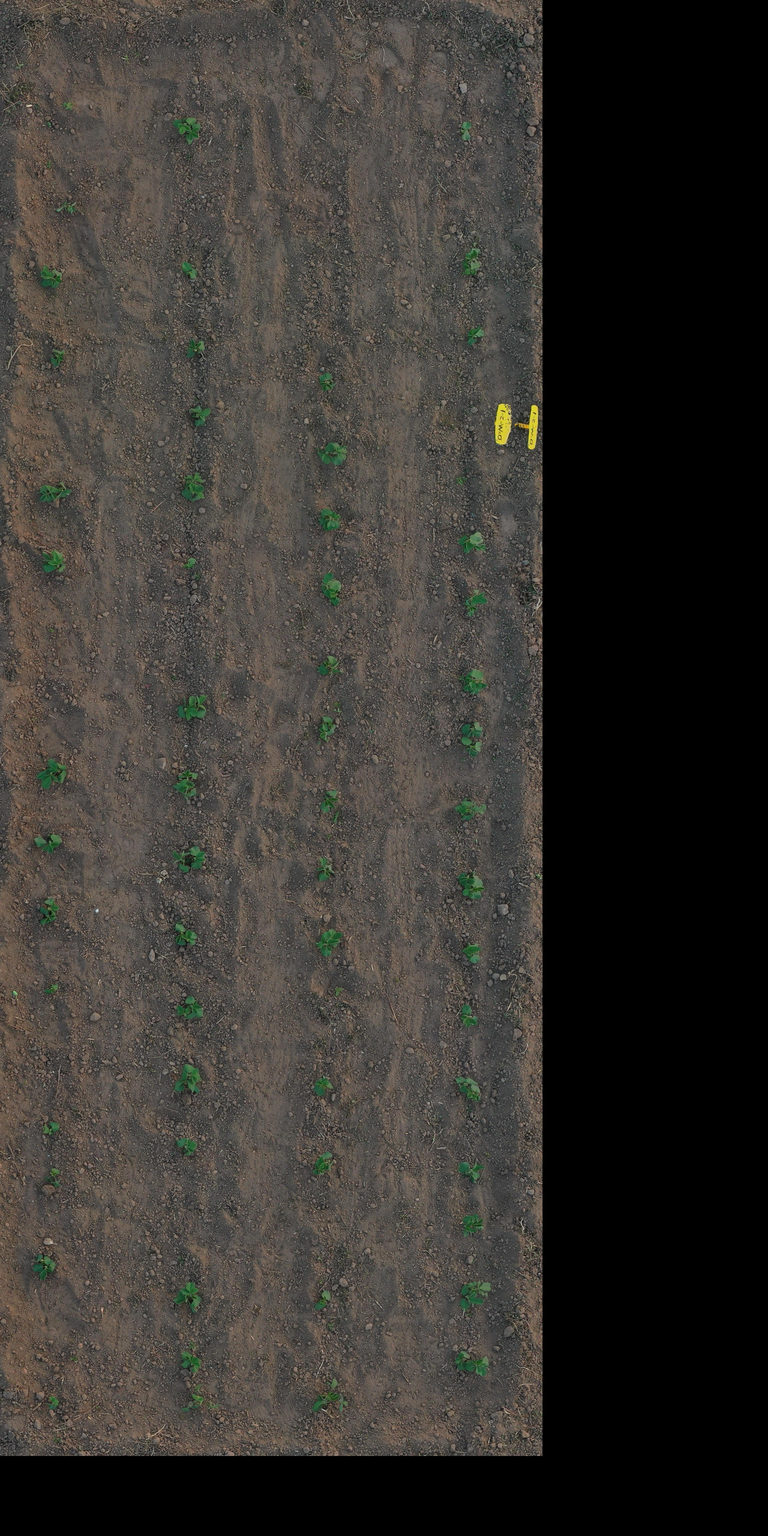s: (181, 1383, 220, 1412), (326, 1378, 348, 1412), (174, 1068, 200, 1094), (317, 655, 344, 679), (458, 1161, 486, 1184), (459, 1284, 484, 1309), (462, 875, 486, 900), (179, 1282, 202, 1308), (172, 1290, 198, 1313), (34, 834, 63, 854), (315, 935, 341, 957), (177, 696, 199, 721), (42, 551, 66, 573), (46, 758, 67, 783), (454, 797, 475, 822), (464, 1356, 489, 1377), (180, 483, 205, 503), (469, 668, 488, 694), (189, 405, 211, 427), (188, 694, 208, 718), (173, 782, 197, 802), (32, 1260, 56, 1280), (320, 789, 339, 814), (461, 736, 483, 757), (36, 769, 58, 790), (180, 1063, 202, 1084), (316, 858, 335, 882), (321, 928, 343, 948), (462, 248, 481, 271), (172, 850, 191, 873), (185, 995, 204, 1018), (172, 117, 197, 134), (463, 589, 488, 606), (38, 484, 60, 503), (176, 1137, 198, 1156), (320, 572, 336, 598), (330, 442, 348, 465), (466, 323, 484, 346), (318, 508, 336, 531), (460, 1004, 478, 1027), (455, 1076, 478, 1094), (467, 1280, 491, 1297), (186, 338, 206, 358), (312, 1078, 333, 1097), (40, 270, 62, 288), (40, 264, 62, 282), (183, 472, 205, 490), (328, 579, 342, 607), (461, 721, 484, 738), (189, 846, 206, 869), (318, 372, 337, 392), (178, 769, 198, 788), (317, 442, 334, 464), (44, 1168, 62, 1188), (186, 122, 201, 145), (462, 1214, 477, 1237), (314, 1290, 331, 1310), (454, 1350, 470, 1371), (312, 1394, 330, 1412), (40, 906, 57, 925), (457, 869, 476, 886), (312, 1156, 329, 1175), (458, 535, 474, 555), (470, 532, 486, 552), (463, 672, 479, 692), (176, 1004, 196, 1020), (319, 1150, 334, 1171), (56, 200, 78, 214), (55, 481, 72, 499), (50, 349, 66, 368), (463, 259, 482, 275), (44, 897, 60, 916), (182, 261, 198, 279), (318, 722, 332, 742), (174, 923, 186, 946), (462, 942, 483, 955), (182, 929, 198, 946), (322, 715, 336, 734), (467, 1084, 481, 1103), (465, 802, 487, 814), (459, 121, 472, 141), (188, 1355, 202, 1373), (46, 1395, 62, 1410), (470, 1214, 484, 1231), (42, 1122, 60, 1135), (329, 512, 341, 530), (35, 1254, 53, 1265), (181, 1351, 192, 1369), (182, 557, 196, 570), (465, 605, 478, 617), (44, 984, 59, 994), (466, 954, 480, 964), (48, 627, 55, 633)
